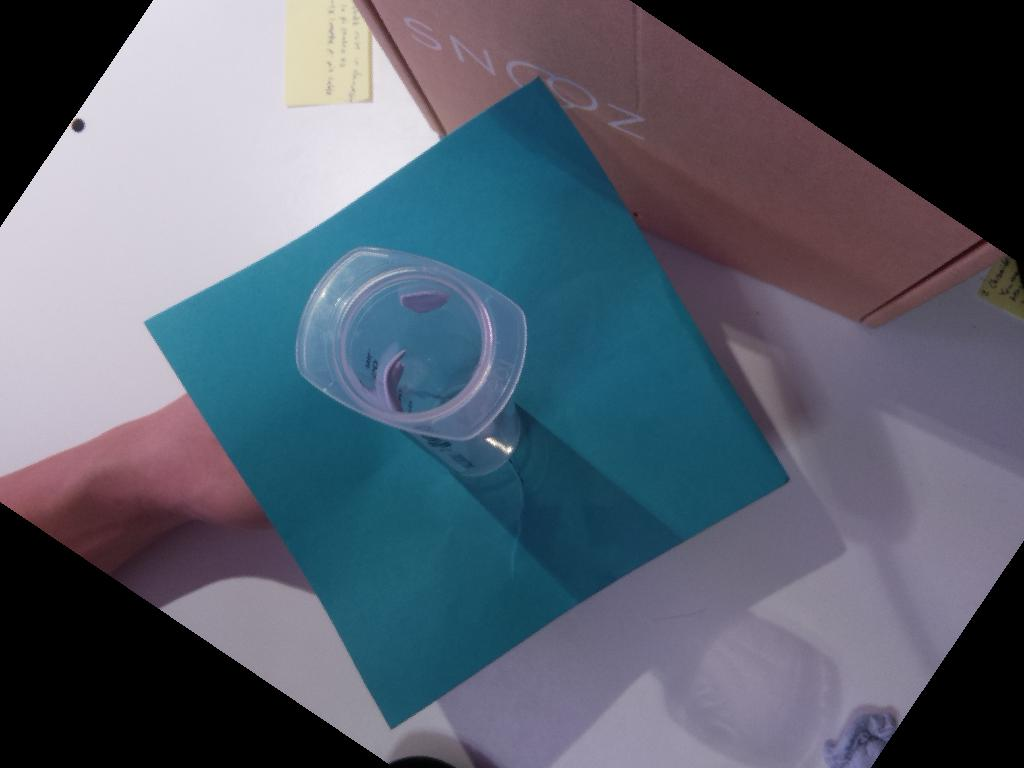dirty: (296, 246, 529, 441)
